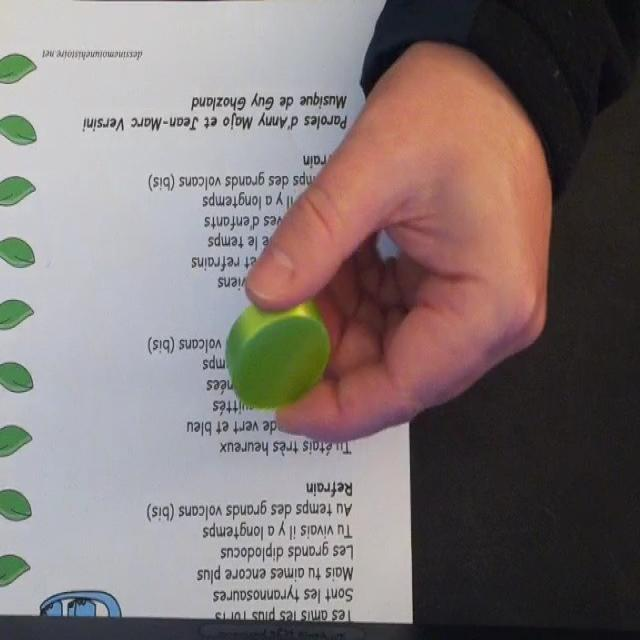round: (226, 297, 330, 412)
